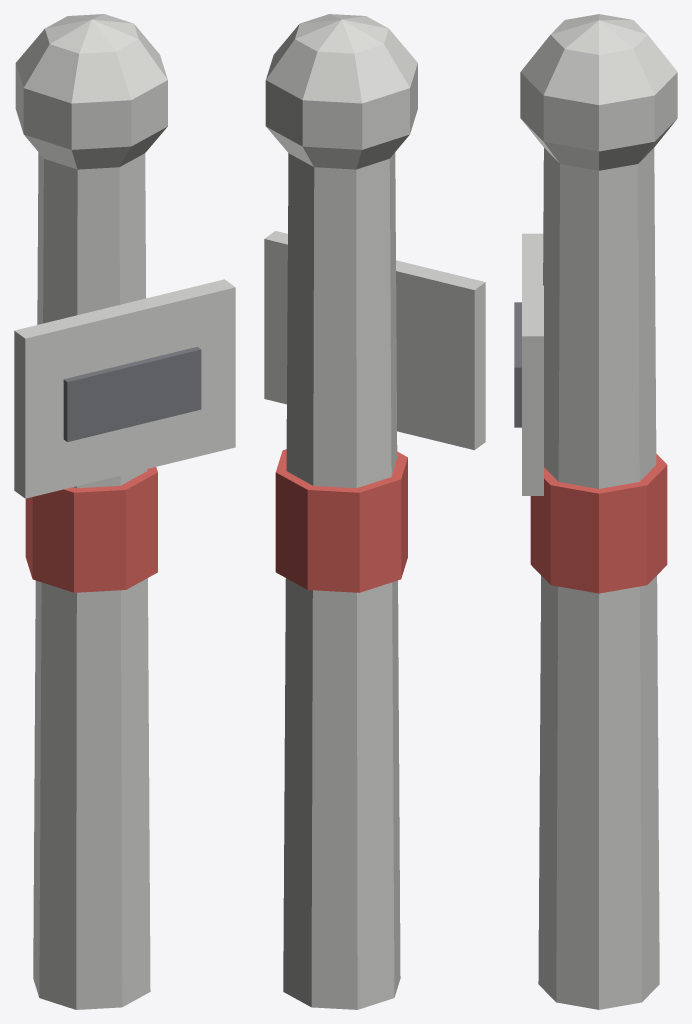
Rendered from golf-course-and-clubhouse-yardage-marker-post-e2338553__33473.glb.
The picture shows the model from 3 angles, left to right: view 1: azimuth 30°, elevation 25°; view 2: azimuth 150°, elevation 25°; view 3: azimuth 270°, elevation 25°; orthographic projection.
Parts seen in each view (by area): view 1: yardage-marker-post; view 2: yardage-marker-post; view 3: yardage-marker-post.
Boxes of the visible parts, x1,y1,x2,y2 form: yardage-marker-post: [14, 14, 235, 1009]; yardage-marker-post: [264, 14, 485, 1009]; yardage-marker-post: [514, 14, 677, 1009].
Size of the model in its own units: 0.2199 by 0.965 by 0.1483.
